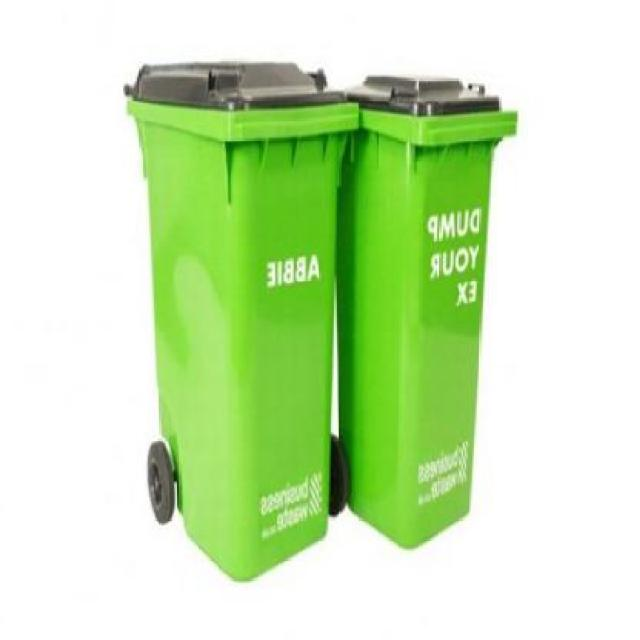garbage container: (110, 52, 361, 596), (329, 54, 528, 563)
